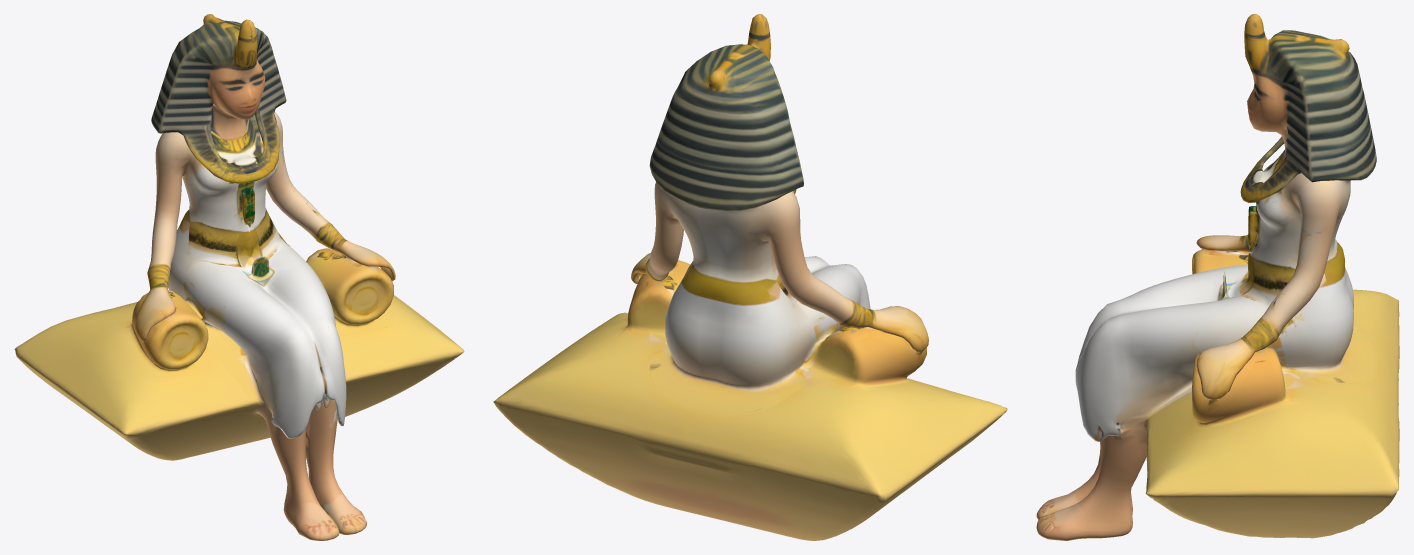
Rendered from egyptian.glb.
3 renders of one model, left to right at view 1: azimuth 30°, elevation 25°; view 2: azimuth 150°, elevation 25°; view 3: azimuth 270°, elevation 25°, orthographic. The views are drawn at different scales.
Parts seen in each view (by area): view 1: remeshed; view 2: remeshed; view 3: remeshed.
Part boxes in pixels (x1,y1,x2,y2): remeshed: (14, 14, 464, 540); remeshed: (493, 14, 1007, 540); remeshed: (1036, 14, 1399, 540).
Size of the model in its own units: 1.49 by 1.85 by 1.19.
Materials: 1 (1 with a texture image).
